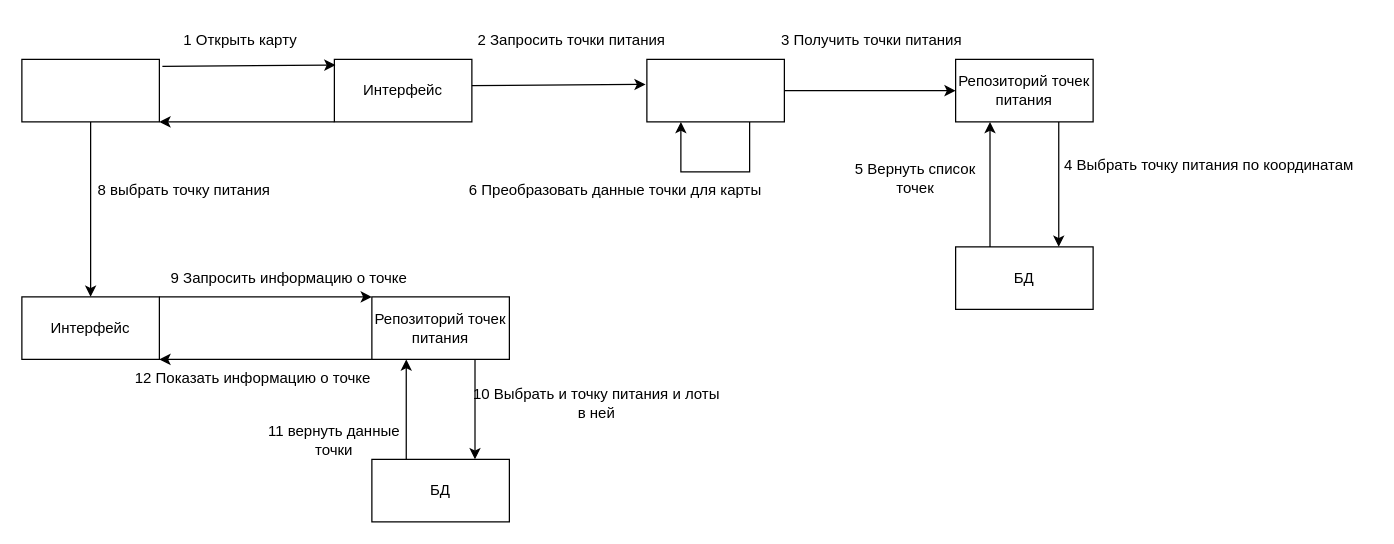
Some shapes in this 1394 by 544 pixel diagram are drawn without their labels. The shapes that lost their labels are listed below. From the top down, each one's box as (x1, y1, x2, y2) in pixels, then its label:
(21, 58, 159, 122): Пользователь
(646, 58, 784, 122): Сервис карт
